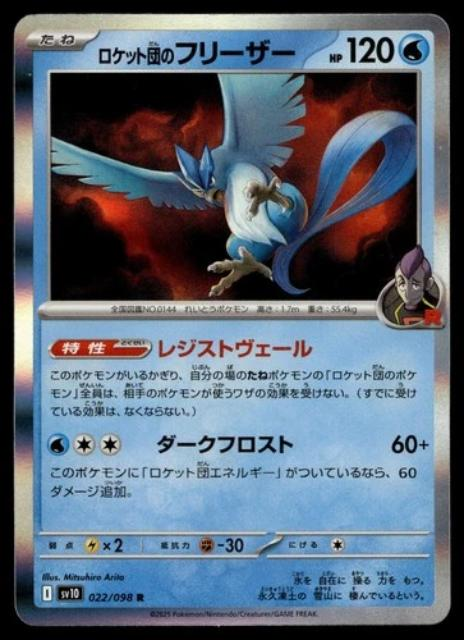Card: (9, 4, 458, 631)
Name: (94, 32, 311, 70)
